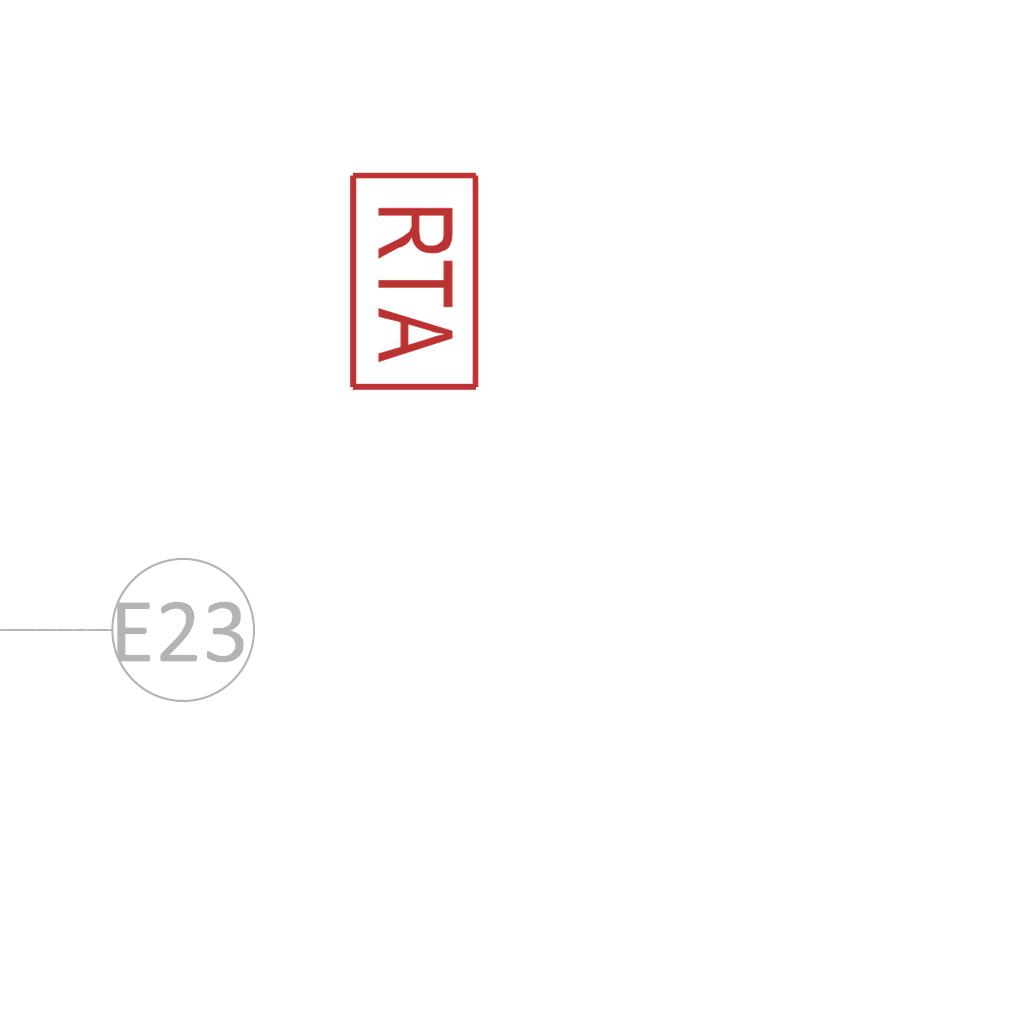Ruf-und_Abstelltaster: (345, 165, 483, 393)
